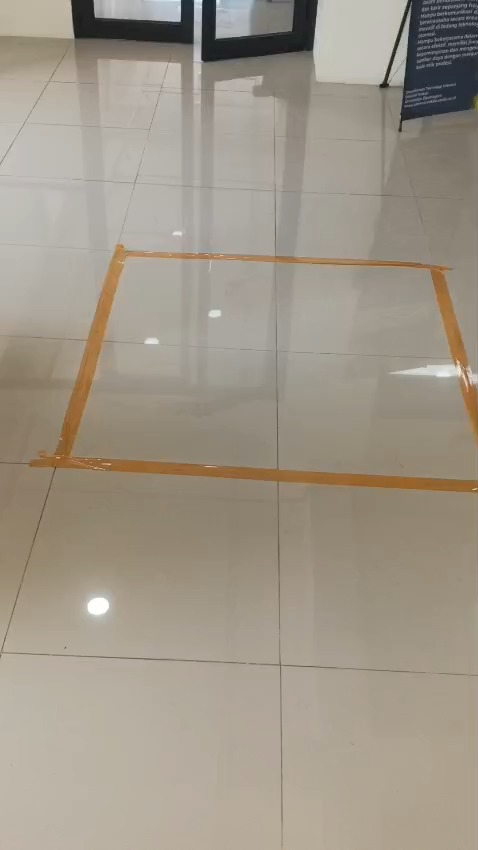floor marking: (30, 245, 477, 492)
